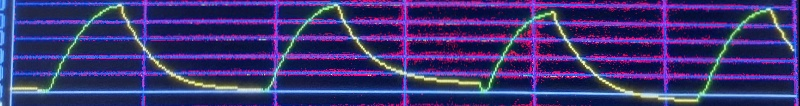normal_volume: (0, 0, 792, 97)
